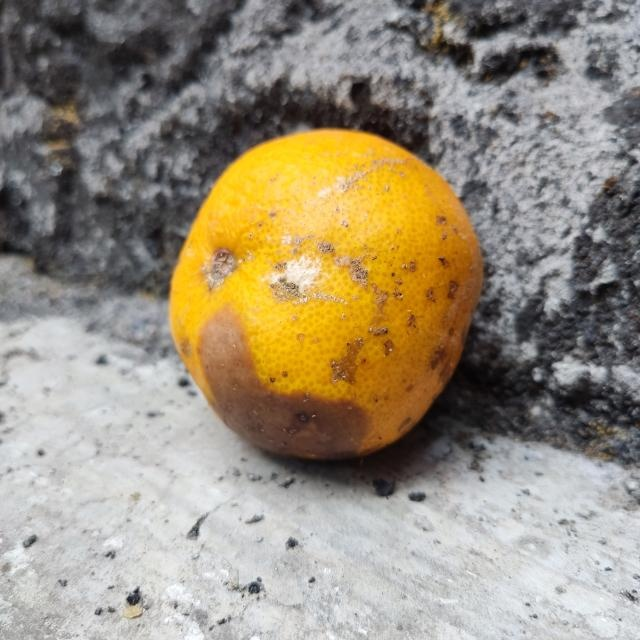agrume: (166, 129, 480, 460)
